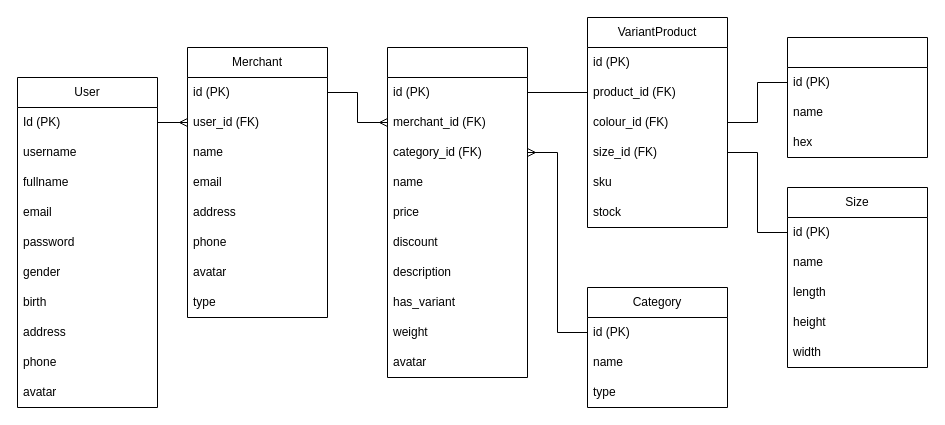
Some shapes in this 945 by 425 pixel diagram are drawn without their labels. Here are the shapes that lost their labels. From the top down, the box of each, then its label:
(786, 36, 928, 158): Colour
(386, 46, 528, 378): Product
